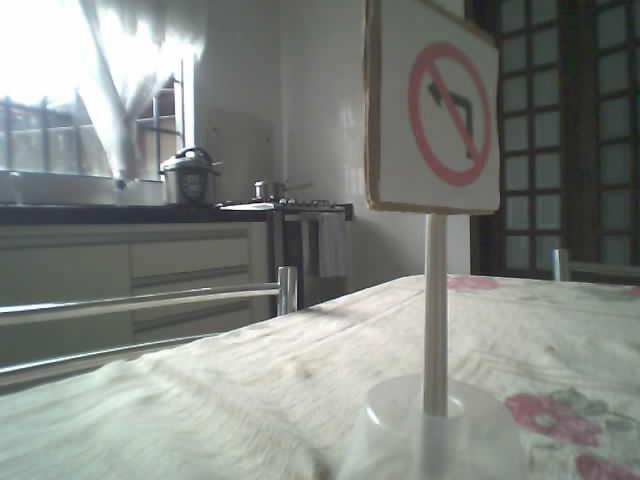R-4a_proibido-esquerda: (407, 41, 491, 184)
